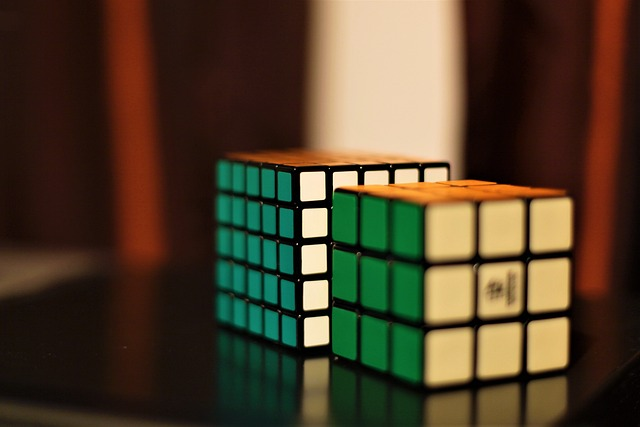cube: (327, 177, 576, 395), (214, 148, 452, 362)
